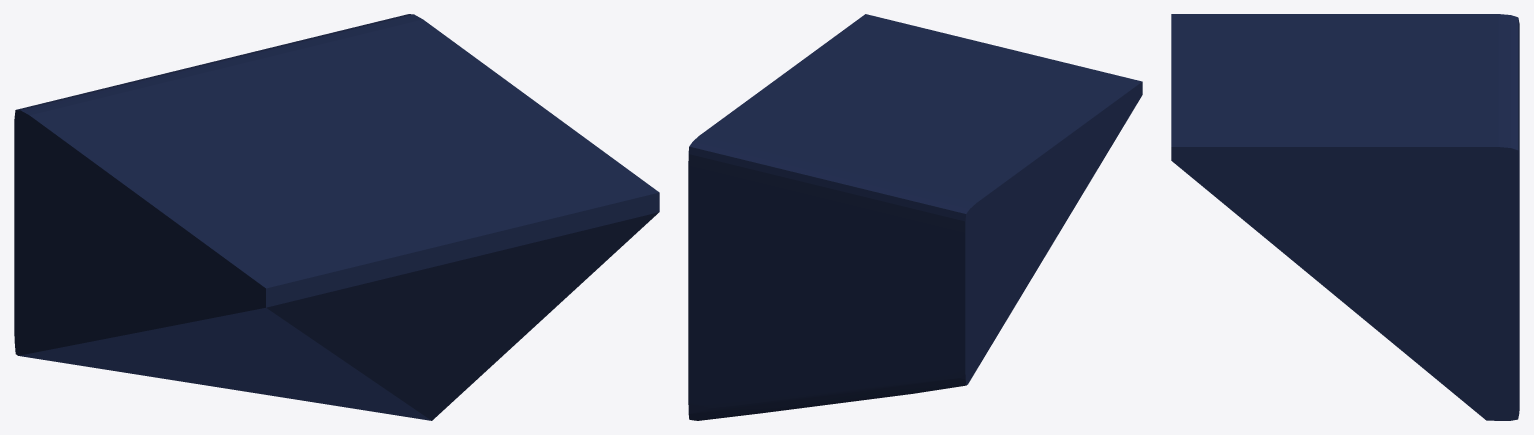
The model's file is left_hip_yaw_link_part_21.obj.
3 views of the same model, side by side, from view 1: azimuth 30°, elevation 25°; view 2: azimuth 150°, elevation 25°; view 3: azimuth 270°, elevation 25° (orthographic). The views are drawn at different scales.
Bounding box in the file's own units: 0.0345 × 0.0332 × 0.0382.
